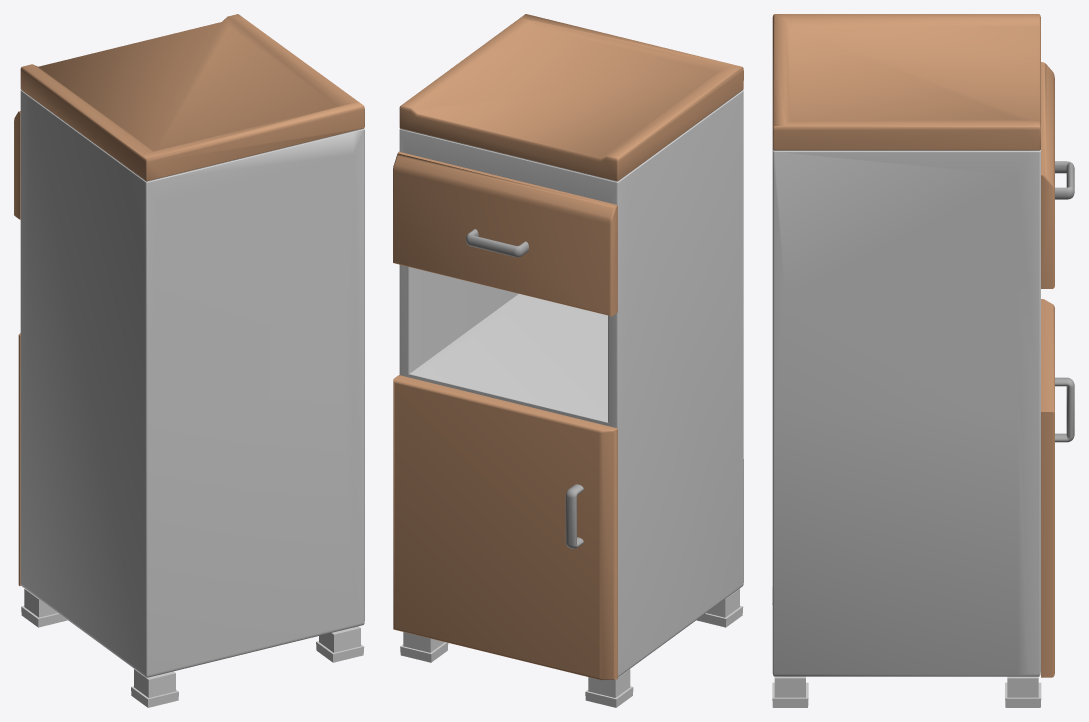
File: Bed_sidelocker_deluxe_wood1-optimized.glb
3 renders of one model, left to right at view 1: azimuth 30°, elevation 25°; view 2: azimuth 150°, elevation 25°; view 3: azimuth 270°, elevation 25°, orthographic. The views are drawn at different scales.
Parts seen in each view (by area): view 1: Cube, Cube.001; view 2: Cube.001, Cube, Cylinder; view 3: Cube, Cube.001, Cylinder.
Part boxes in pixels (x1,y1,x2,y2): Cube: [20, 90, 364, 707]; Cube.001: [14, 14, 364, 585]; Cube.001: [393, 14, 743, 680]; Cube: [399, 90, 743, 707]; Cylinder: [465, 229, 583, 548]; Cube: [772, 149, 1041, 707]; Cube.001: [772, 14, 1054, 677]; Cylinder: [1055, 161, 1074, 442].
Bounding box in the file's own units: 0.762 × 1.83 × 0.8586.
